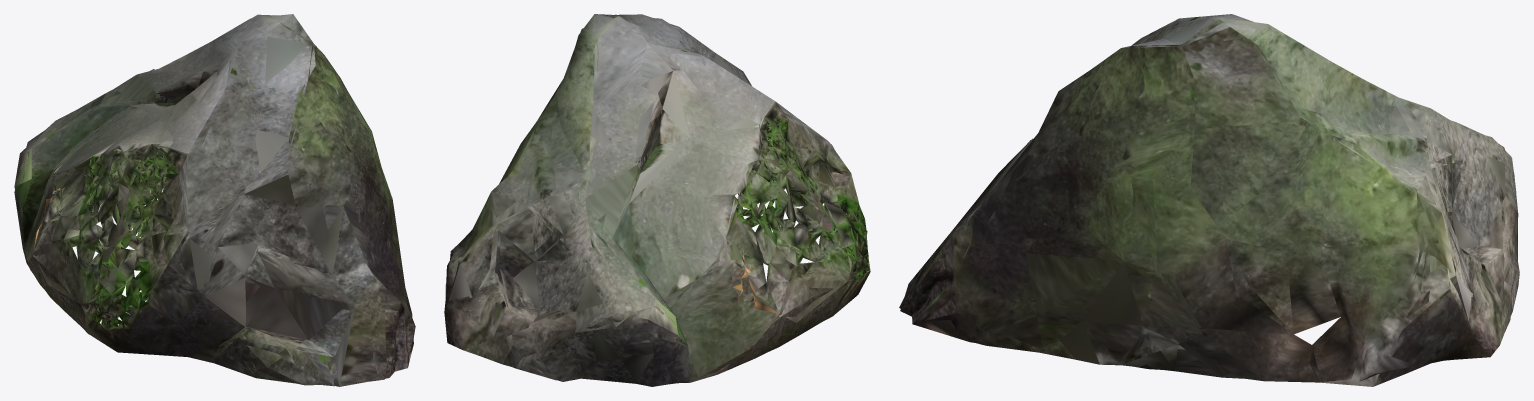
The model's file is rock.glb.
The picture shows the model from 3 angles, left to right: view 1: azimuth 30°, elevation 25°; view 2: azimuth 150°, elevation 25°; view 3: azimuth 270°, elevation 25°; orthographic projection. The views are drawn at different scales.
Parts seen in each view (by area): view 1: abound_20260410-0844_C31e270aa1479bdee0c10861eb346e62; view 2: abound_20260410-0844_C31e270aa1479bdee0c10861eb346e62; view 3: abound_20260410-0844_C31e270aa1479bdee0c10861eb346e62.
Part boxes in pixels (<box>): abound_20260410-0844_C31e270aa1479bdee0c10861eb346e62: <box>14,14,415,386</box>; abound_20260410-0844_C31e270aa1479bdee0c10861eb346e62: <box>444,14,870,386</box>; abound_20260410-0844_C31e270aa1479bdee0c10861eb346e62: <box>899,14,1519,386</box>.
Bounding box in the file's own units: 0.7025 × 0.5391 × 0.9798.
Materials: 1 (1 with a texture image).
